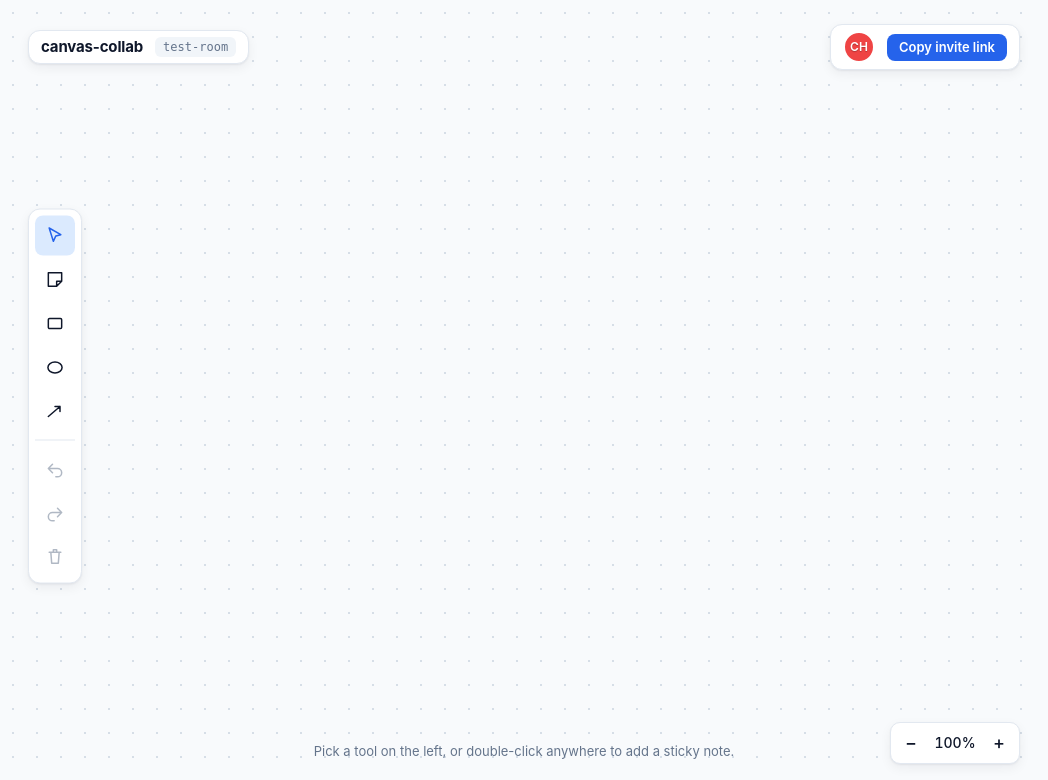
it: Board › creates a sticky note with the sticky tool and edits it inline
Later steps or results of the test are not shown.
Click the button named "Sticky note" at coordinates (55, 280), box x1=35 y1=260 x2=75 y2=300
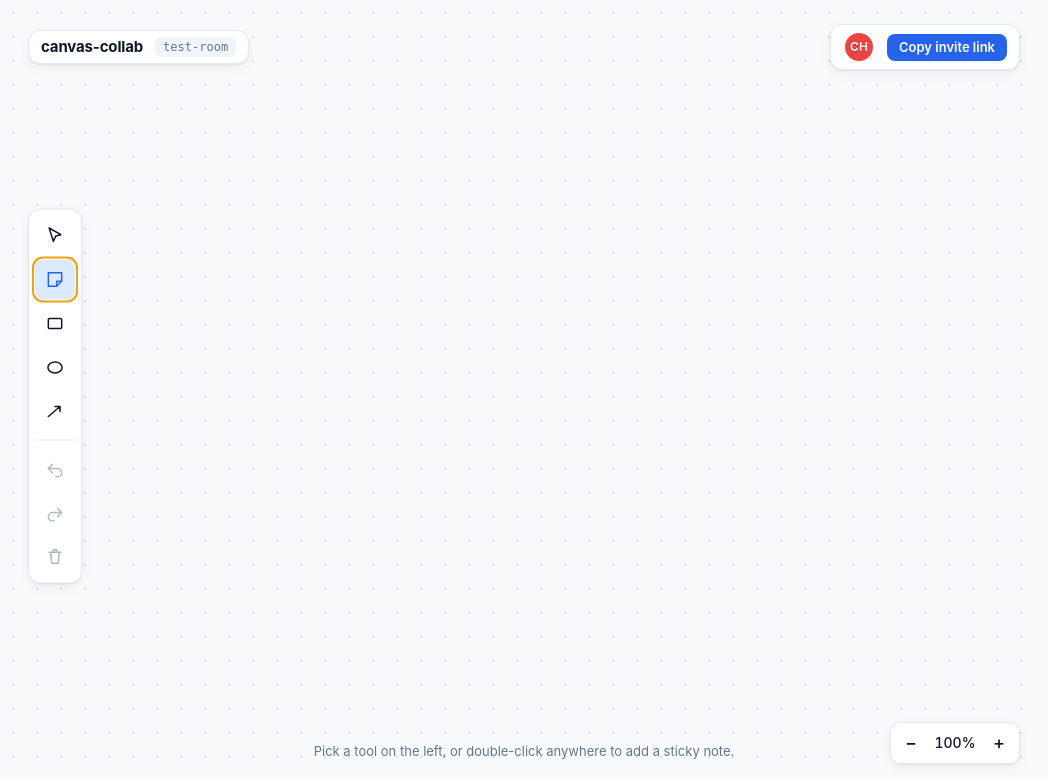
Press the mouse on the icon named "Whiteboard canvas" at coordinates (524, 396), box x1=12 y1=12 x2=1036 y2=779
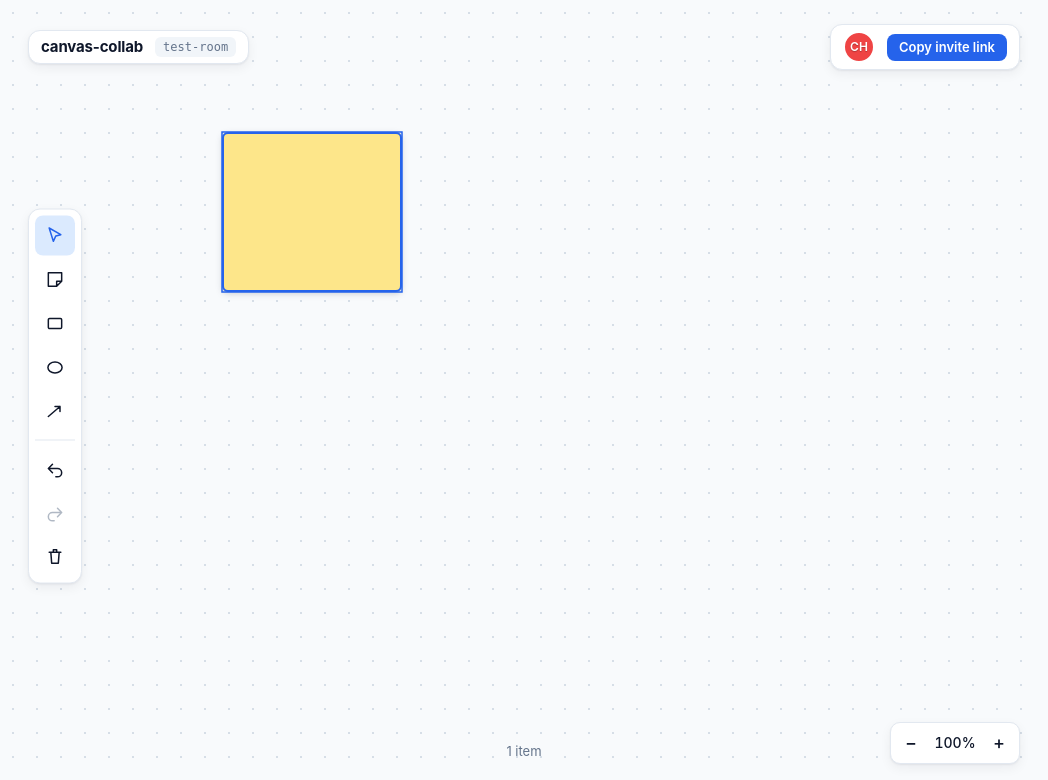
expect the button named "Select" is pressed: met, box x1=35 y1=216 x2=75 y2=256
